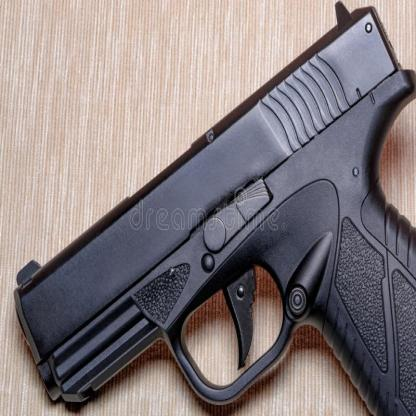handgun: (15, 0, 416, 416)
